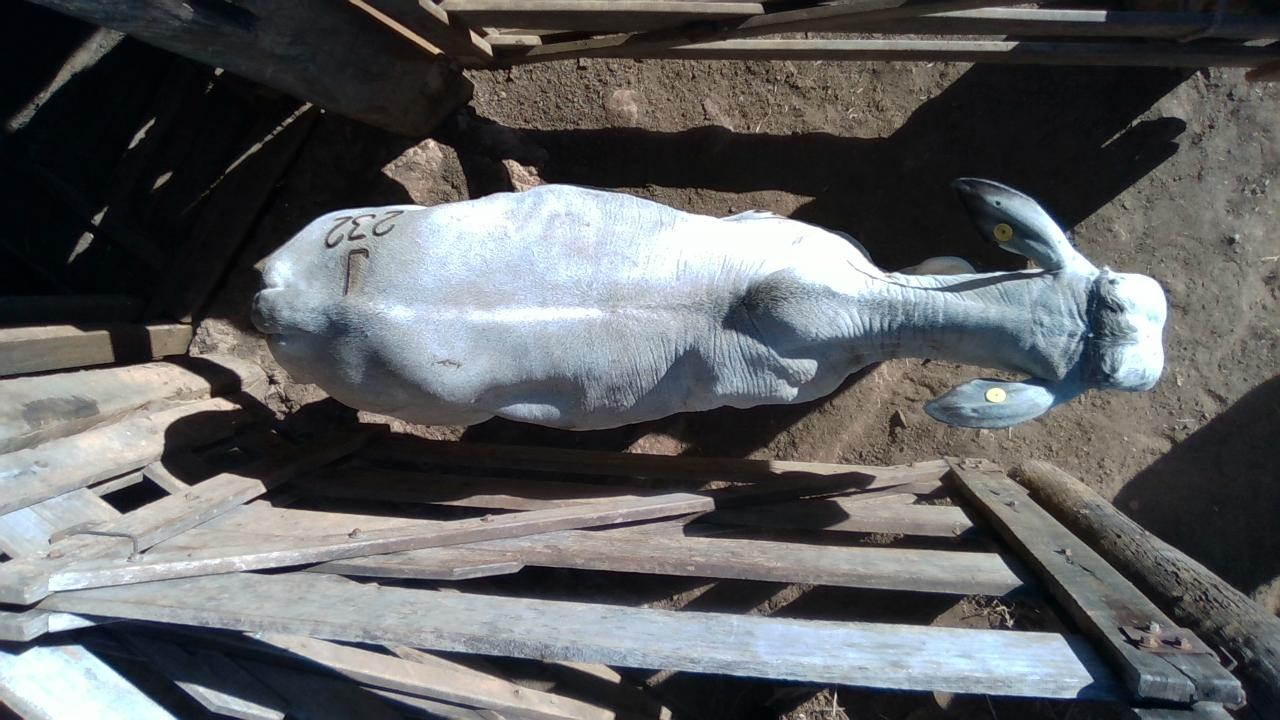cattle: (248, 174, 1169, 438)
